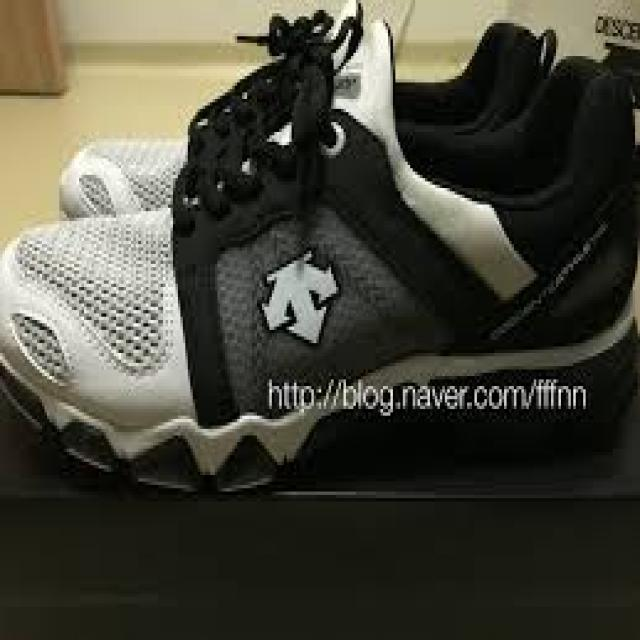shoe: (0, 26, 640, 501), (56, 8, 576, 254)
